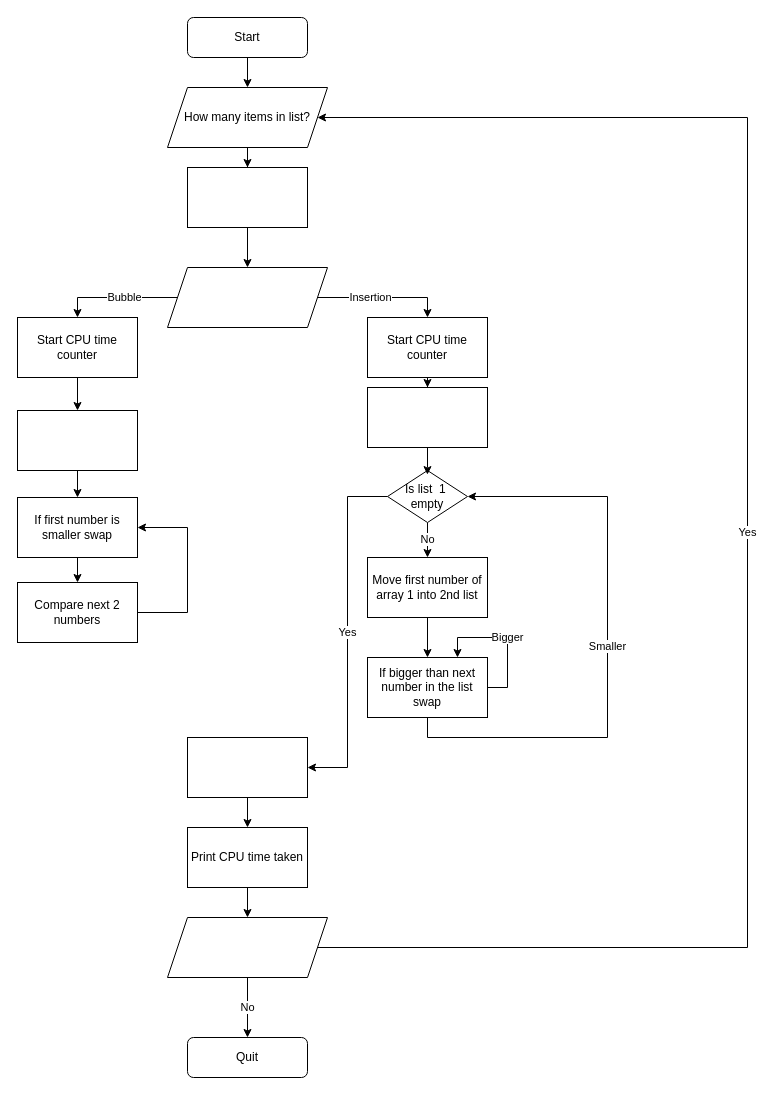
The diagram is 774 pixels wide and 1095 high, and some of its shapes have lost their labels. Each missing label, with the centre of its shape:
Compare first 2 numbers: the point at 77,440
Create a 2nd empty list: the point at 427,417
End CPU time counter: the point at 247,767
Pick sorting algorithm: the point at 247,297
Randomly generate x items and place them in an array: the point at 247,197
Run again?: the point at 247,947
